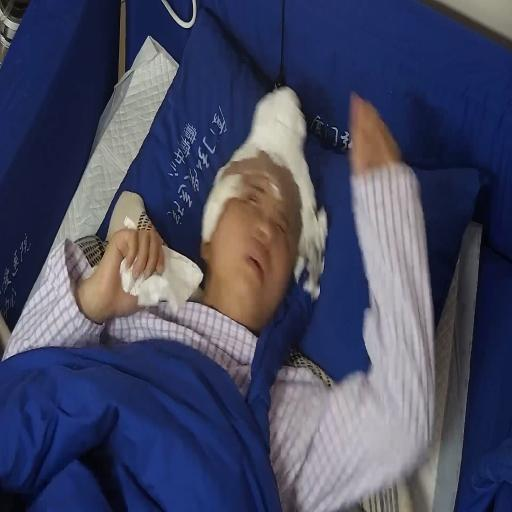Seizure: (216, 152, 302, 317)
